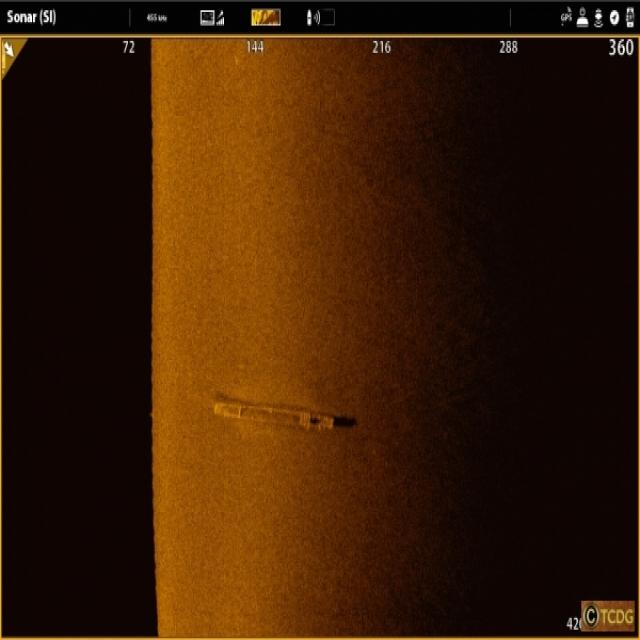ship: (209, 391, 335, 438)
